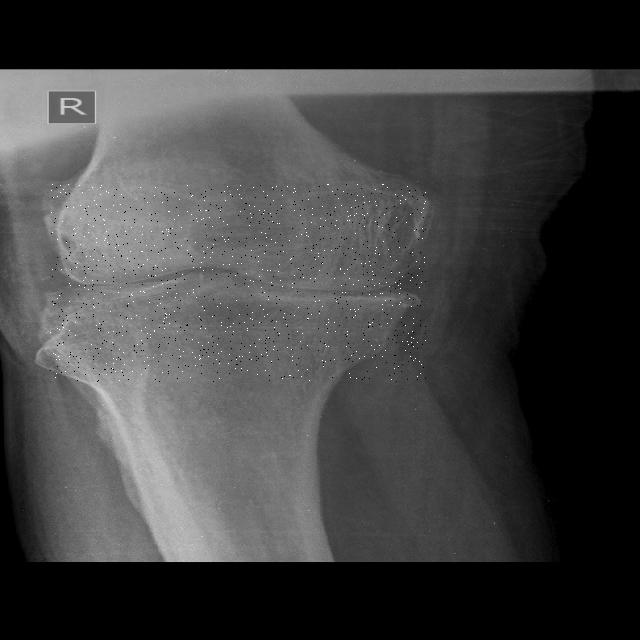osteo: (50, 184, 426, 382)
